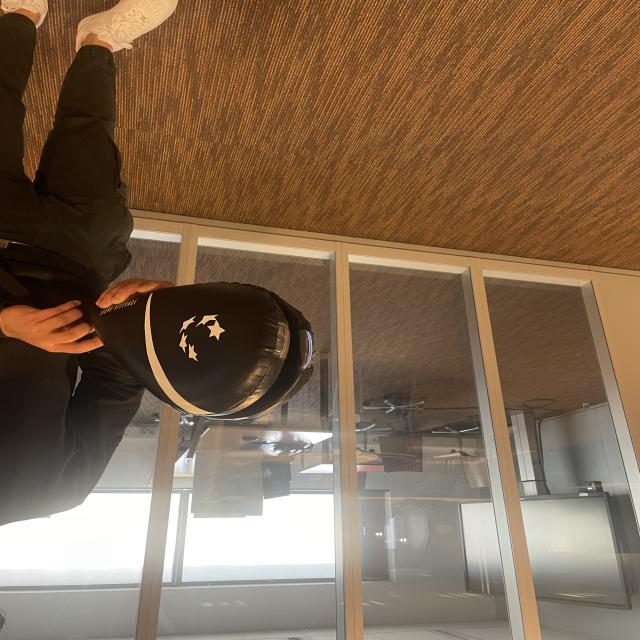paddle: (132, 284, 308, 424)
trigger: (300, 329, 316, 371)
